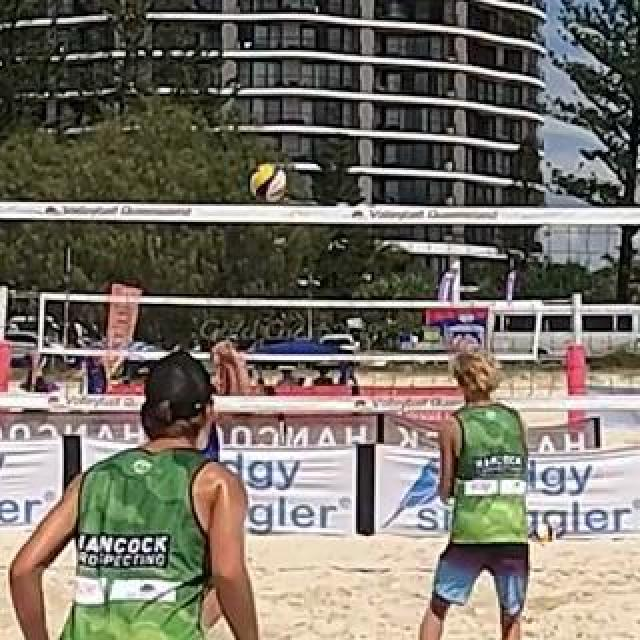volleyball: (250, 163, 286, 197), (529, 519, 555, 547)
